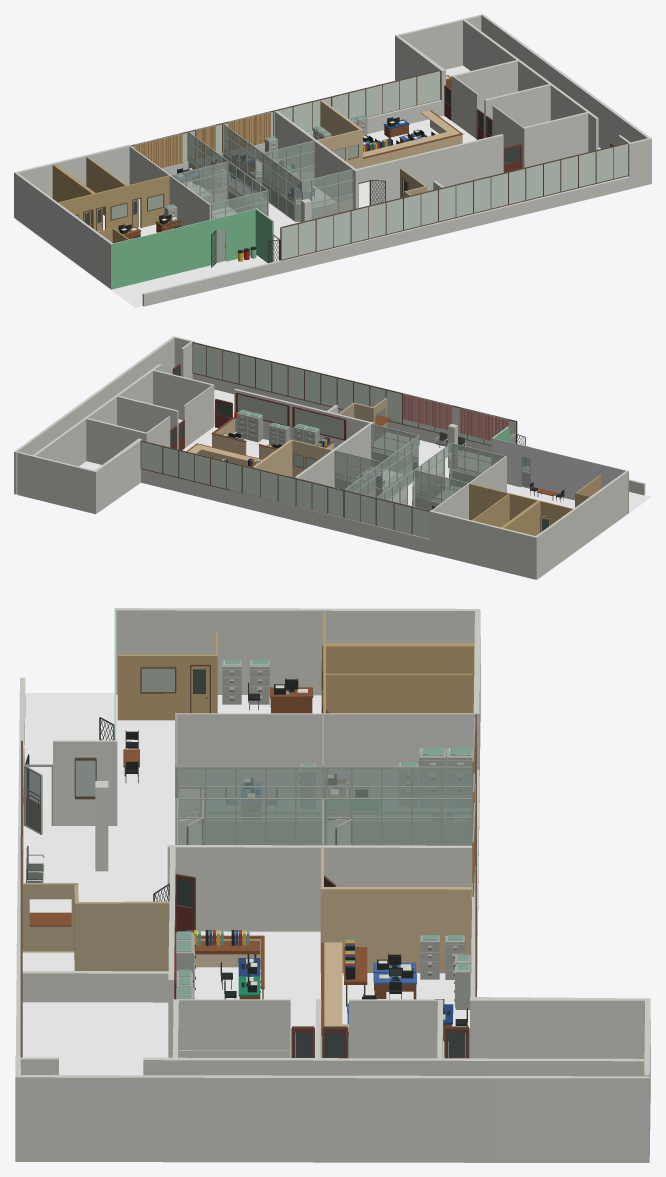
File: biro-fakultas-teknik.glb
3 renders of one model, top to bottom at view 1: azimuth 30°, elevation 25°; view 2: azimuth 150°, elevation 25°; view 3: azimuth 270°, elevation 25°, orthographic. The views are drawn at different scales.
Visible parts, largest first — view 1: A2_Tiang 2.003_Dinding_Bawah.001, A2_Fasad_hijau, A1_Tiiang.003_Dinding_Bawah, A4_Tiang 2.008_Dinding_Bawah, A4_Tiang 2.007_Dinding_Bawah, A2_Tiang 2.003_Dinding_Bawah, A3_Tiiang.006_Dinding_Bawah, A2_Ubin, A4_Tiang 4.005_Dinding_Bawah, A1_Tiiang.005_Dinding_Bawah, A1_Tiang 2.009_Dinding_Bawah, A4_Tiang 4.007_Dinding_Bawah (+59 smaller); view 2: A1_Tiiang.005_Dinding_Bawah, A1_Tiiang.003_Dinding_Bawah, A1_Jendela_depan_Bawah.001, A4_Tiang 4.007_Dinding_Bawah, A4_Tiang 2.008_Dinding_Bawah, A2_Ubin, A4_Tiang 2.007_Dinding_Bawah, A3_Tiiang.005_Dinding_Bawah, A2_Tiang 2.003_Dinding_Bawah, A3_Tiang 3.017_Dinding_Bawah, A2_Tiiang.005_Dinding_Bawah, A4_Tiang 4.006_Dinding_Bawah (+63 smaller); view 3: A4_Tiang 2.008_Dinding_Bawah, A2_Ubin, A1_Tiang 2.009_Dinding_Bawah, A2_Tiang 2.003_Dinding_Bawah, A1_Tiiang.003_Dinding_Bawah, A3_Tiang 3.017_Dinding_Bawah, A1_Ubin, A3_Tiang 2.005_Dinding_Bawah, A4_Tiang 2.007_Dinding_Bawah, A3_Tiang 2.011_Dinding_Bawah.001, A1_Tiang 3.010_Panel_bawah.008, A4_Tiang 3.006_Dinding_Bawah (+43 smaller).
Part boxes in pixels (bbox=[...]): A2_Tiang 2.003_Dinding_Bawah.001: bbox=[356, 134, 503, 204]; A2_Fasad_hijau: bbox=[110, 219, 215, 289]; A1_Tiiang.003_Dinding_Bawah: bbox=[14, 172, 113, 288]; A4_Tiang 2.008_Dinding_Bawah: bbox=[481, 14, 651, 184]; A4_Tiang 2.007_Dinding_Bawah: bbox=[463, 19, 598, 151]; A2_Tiang 2.003_Dinding_Bawah: bbox=[275, 111, 358, 209]; A3_Tiiang.006_Dinding_Bawah: bbox=[402, 176, 629, 243]; A2_Ubin: bbox=[184, 116, 476, 269]; A4_Tiang 4.005_Dinding_Bawah: bbox=[523, 112, 588, 167]; A1_Tiiang.005_Dinding_Bawah: bbox=[16, 144, 130, 198]; A1_Tiang 2.009_Dinding_Bawah: bbox=[129, 146, 210, 226]; A4_Tiang 4.007_Dinding_Bawah: bbox=[398, 15, 481, 69]; A1_Tiiang.005_Dinding_Bawah: bbox=[429, 510, 535, 579]; A1_Tiiang.003_Dinding_Bawah: bbox=[534, 470, 628, 579]; A1_Jendela_depan_Bawah.001: bbox=[493, 438, 625, 500]; A4_Tiang 4.007_Dinding_Bawah: bbox=[17, 451, 94, 513]; A4_Tiang 2.008_Dinding_Bawah: bbox=[14, 336, 175, 494]; A2_Ubin: bbox=[182, 412, 529, 505]; A4_Tiang 2.007_Dinding_Bawah: bbox=[33, 364, 161, 466]; A3_Tiiang.005_Dinding_Bawah: bbox=[141, 469, 290, 519]; A2_Tiang 2.003_Dinding_Bawah: bbox=[295, 421, 373, 486]; A3_Tiang 3.017_Dinding_Bawah: bbox=[93, 438, 142, 514]; A2_Tiiang.005_Dinding_Bawah: bbox=[290, 505, 429, 553]; A4_Tiang 4.006_Dinding_Bawah: bbox=[86, 418, 146, 464]; A4_Tiang 2.008_Dinding_Bawah: bbox=[15, 1075, 649, 1162]; A2_Ubin: bbox=[22, 798, 472, 1075]; A1_Tiang 2.009_Dinding_Bawah: bbox=[175, 713, 474, 798]; A2_Tiang 2.003_Dinding_Bawah: bbox=[167, 845, 471, 931]; A1_Tiiang.003_Dinding_Bawah: bbox=[115, 608, 480, 695]; A3_Tiang 3.017_Dinding_Bawah: bbox=[470, 997, 650, 1058]; A1_Ubin: bbox=[24, 693, 321, 798]; A3_Tiang 2.005_Dinding_Bawah: bbox=[320, 887, 471, 973]; A4_Tiang 2.007_Dinding_Bawah: bbox=[143, 1057, 644, 1076]; A3_Tiang 2.011_Dinding_Bawah.001: bbox=[74, 901, 169, 971]; A1_Tiang 3.010_Panel_bawah.008: bbox=[326, 673, 472, 713]; A4_Tiang 3.006_Dinding_Bawah: bbox=[172, 999, 290, 1057].
Bounding box in the file's own units: 39.98 × 3.58 × 22.85.
